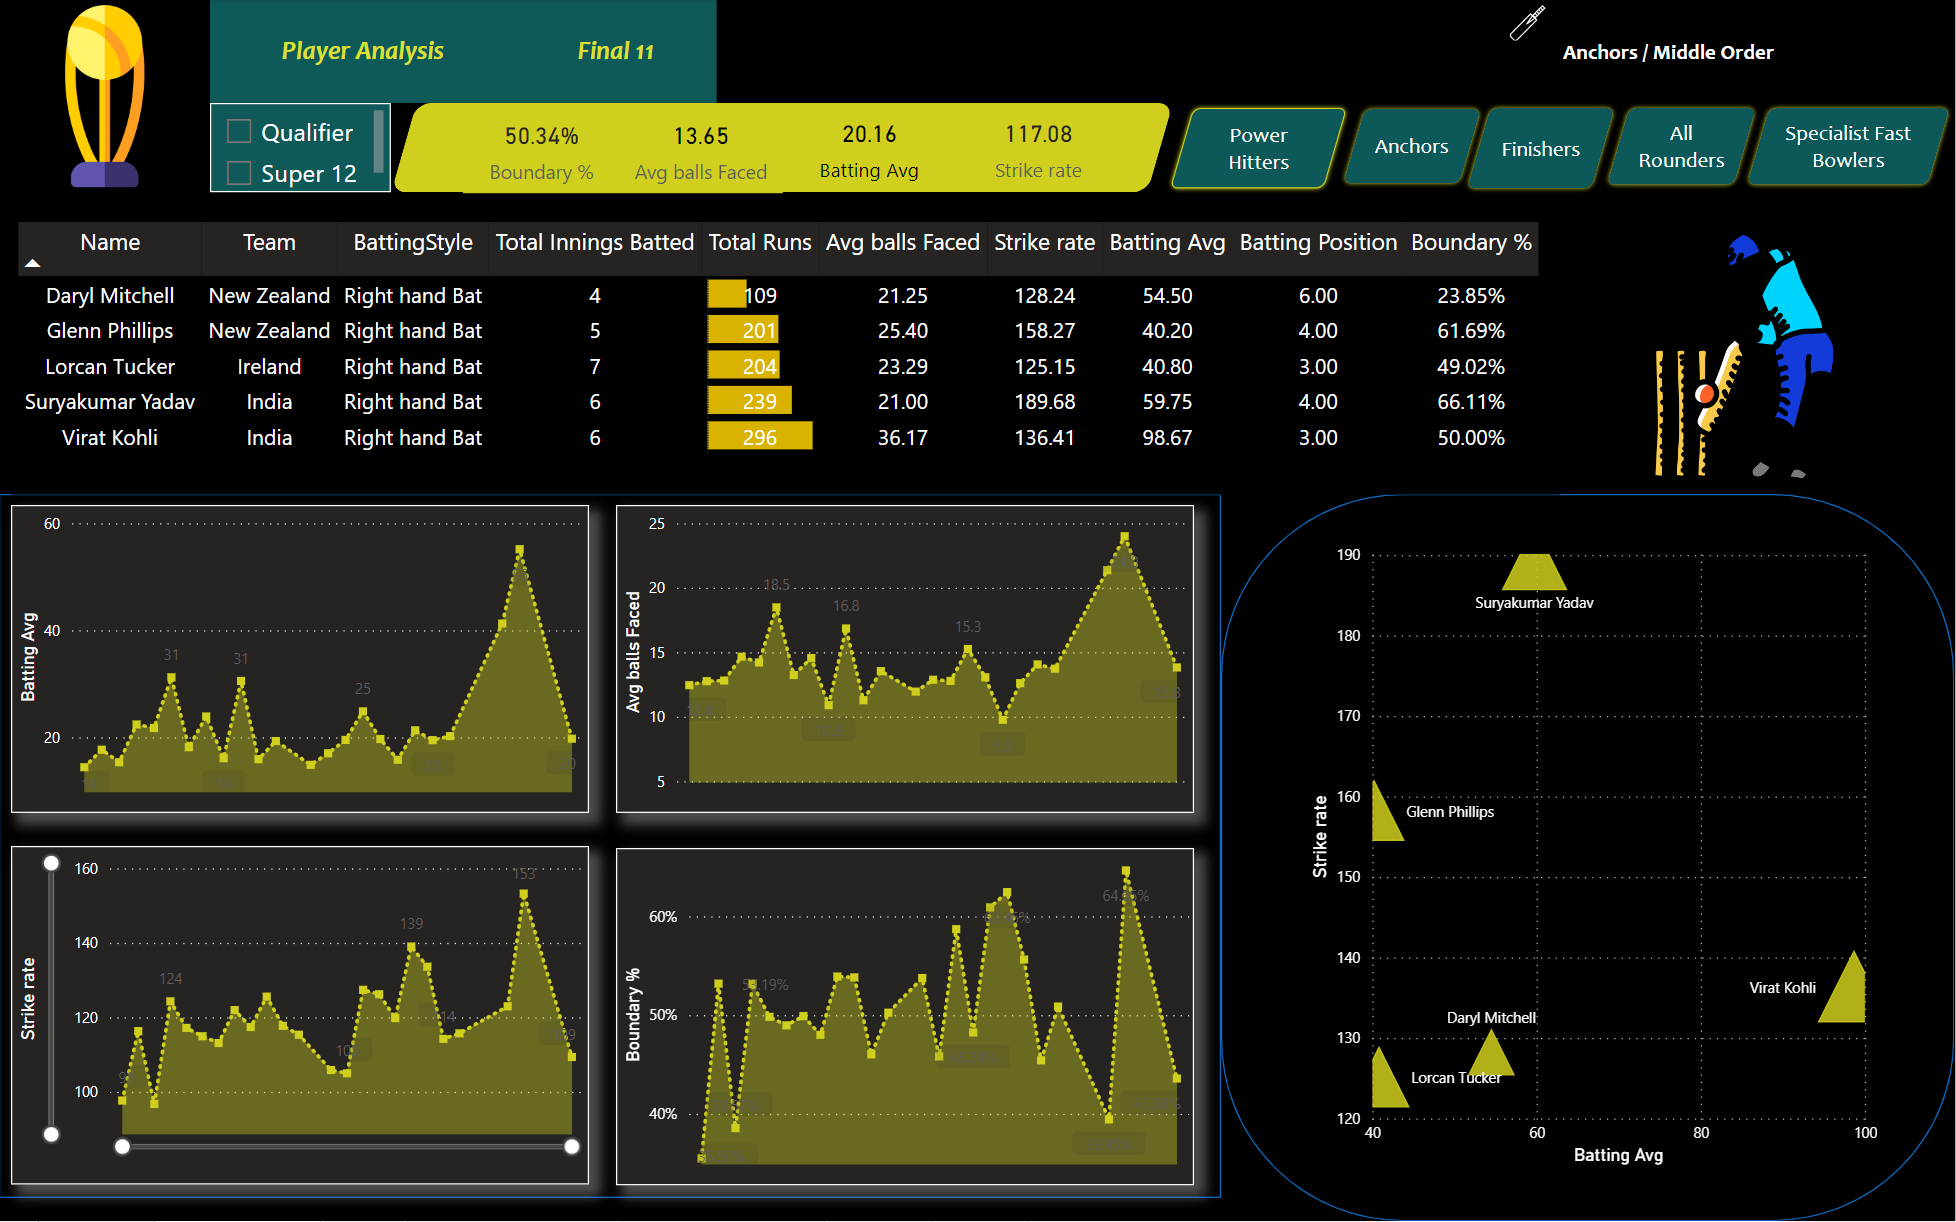

The dashboard page shown, as its layout file describes it:
{"tool":"powerbi","page":{"name":"Anchors/Middle order1","canvas":[1600,1000],"ordinal":1},"visuals":[{"type":"group","id":"g1","title":"Group 2","box":[1279.8,2.8,318.8,82.6],"z":0,"group":"g2"},{"type":"shape","box":[1279.8,2.8,318.8,82.6],"z":0,"group":"g1"},{"type":"shape","box":[321,85.1,639.5,72.9],"z":0},{"type":"image","box":[1223.5,0,54.1,38.7],"z":1000,"group":"g2"},{"type":"card","fields":{"Values":["key_measures.Avg balls Faced"]},"box":[507,86.3,133.7,72.9],"z":1000},{"type":"card","fields":{"Values":["key_measures.Strike rate"]},"box":[784.2,86.3,132.5,69.3],"z":2000},{"type":"card","fields":{"Values":["key_measures.Boundary %"]},"box":[379.3,86.3,127.7,72.9],"z":3000},{"type":"card","fields":{"Values":["key_measures.Batting Avg"]},"box":[640.7,86.3,143.5,69.3],"z":4000},{"type":"actionButton","title":"Button Player Ana selected","box":[172.4,0,250,85],"z":5000},{"type":"actionButton","title":"Button Player Ana selected","box":[422.4,0,165,85],"z":6000},{"type":"actionButton","box":[954.4,85.1,153.2,74.2],"z":7000},{"type":"actionButton","box":[1096.1,86.2,120.7,69],"z":8000},{"type":"actionButton","box":[1197.6,85.1,128.9,74.2],"z":9000},{"type":"actionButton","box":[1311.9,85.1,130.1,70.5],"z":10000},{"type":"actionButton","box":[1426.1,85.1,173.9,70.5],"z":11000},{"type":"slicer","fields":{"Values":["Dim_match_summary.stage"]},"box":[172.6,85.1,148.3,72.9],"z":12000},{"type":"shape","box":[0,405.2,1000,576.4],"z":13000},{"type":"areaChart","fields":{"Y":["key_measures.Batting Avg"],"Category":["Dim_match_summary.matchDate"]},"box":[9.9,413.8,472.9,252.5],"z":14000},{"type":"areaChart","fields":{"Y":["key_measures.Avg balls Faced"],"Category":["Dim_match_summary.matchDate"]},"box":[504.9,413.8,472.9,252.5],"z":15000},{"type":"areaChart","fields":{"Y":["key_measures.Strike rate"],"Category":["Dim_match_summary.matchDate"]},"box":[9.9,693.3,472.9,277.1],"z":16000},{"type":"areaChart","fields":{"Y":["key_measures.Boundary %"],"Category":["Dim_match_summary.matchDate"]},"box":[504.9,694.6,472.9,275.9],"z":17000},{"type":"shape","box":[1000,405.2,599.8,594.8],"z":18000},{"type":"scatterChart","fields":{"Size":["key_measures.Total Runs"],"X":["key_measures.Batting Avg"],"Y":["key_measures.Strike rate"],"Category":["Dim_players.name"]},"box":[1067.7,440.9,474.1,518.5],"z":19000},{"type":"image","box":[0,0,172.4,158.9],"z":20000},{"type":"tableEx","fields":{"Values":["Dim_players.name","Dim_players.team","Dim_players.battingStyle","key_measures.Total Innings Batted","key_measures.Total Runs","key_measures.Avg balls Faced","key_measures.Strike rate","key_measures.Batting Avg","key_measures.Batting Position","key_measures.Boundary %"]},"box":[9.9,177.3,1267.2,227.8],"z":21000},{"type":"image","box":[1262.3,177.3,337.4,227.8],"z":22000},{"type":"group","id":"g2","title":"Group 1","box":[1223.5,0,375.4,85.3],"z":23000}]}

Visuals, with their boxes in screenshot pixels (x1, y1, x2, y2), scaled from the page's 1600x1000 canvas onto the 1956x1222 screenshot:
"Group 2" group: 1565:3:1954:104
shape: 1565:3:1954:104
shape: 392:104:1174:193
image: 1496:0:1562:47
card - key_measures.Avg balls Faced: 620:105:783:195
card - key_measures.Strike rate: 959:105:1121:190
card - key_measures.Boundary %: 464:105:620:195
card - key_measures.Batting Avg: 783:105:959:190
"Button Player Ana selected" actionButton: 211:0:516:104
"Button Player Ana selected" actionButton: 516:0:718:104
actionButton: 1167:104:1354:195
actionButton: 1340:105:1488:190
actionButton: 1464:104:1622:195
actionButton: 1604:104:1763:190
actionButton: 1743:104:1955:190
slicer - Dim_match_summary.stage: 211:104:392:193
shape: 0:495:1222:1200
areaChart - key_measures.Batting Avg x Dim_match_summary.matchDate: 12:506:590:814
areaChart - key_measures.Avg balls Faced x Dim_match_summary.matchDate: 617:506:1195:814
areaChart - key_measures.Strike rate x Dim_match_summary.matchDate: 12:847:590:1186
areaChart - key_measures.Boundary % x Dim_match_summary.matchDate: 617:849:1195:1186
shape: 1222:495:1955:1221
scatterChart - key_measures.Total Runs x key_measures.Batting Avg: 1305:539:1885:1172
image: 0:0:211:194
tableEx - Dim_players.name x Dim_players.team: 12:217:1561:495
image: 1543:217:1955:495
"Group 1" group: 1496:0:1955:104
